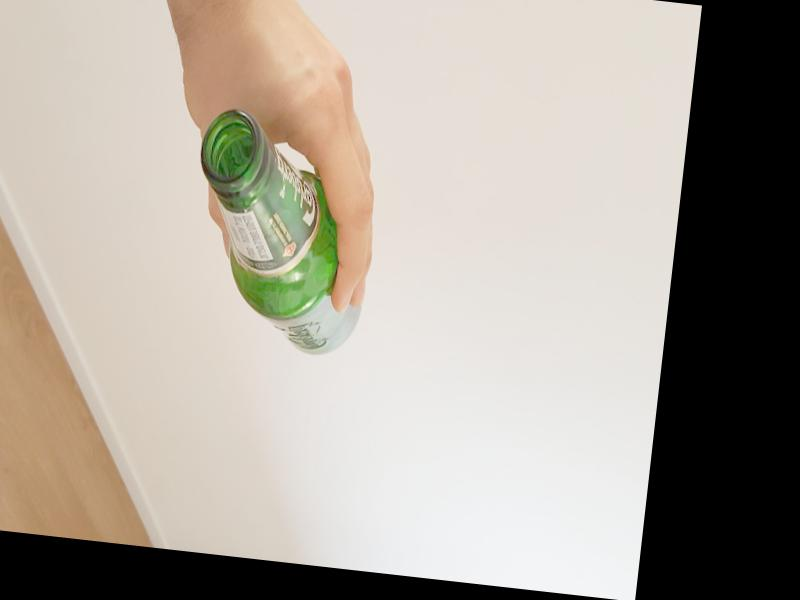Beer: (175, 104, 379, 358)
